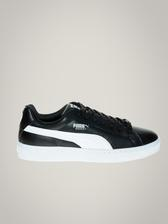shoes: (13, 101, 163, 162)
